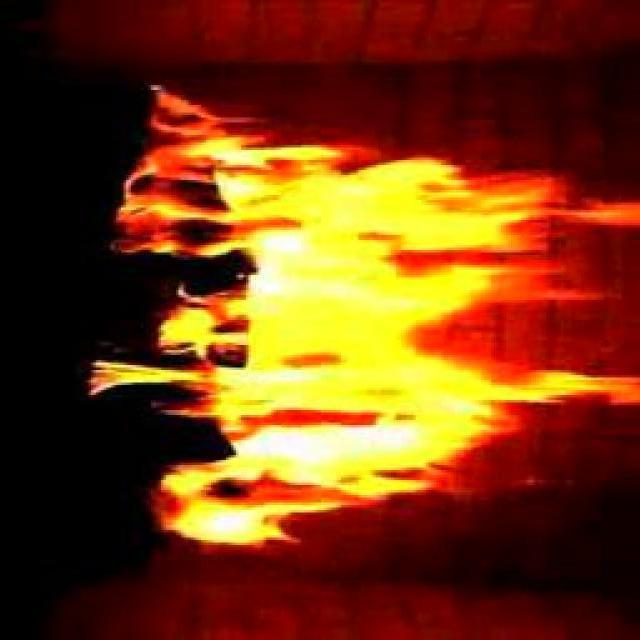Fire: (168, 168, 566, 528)
